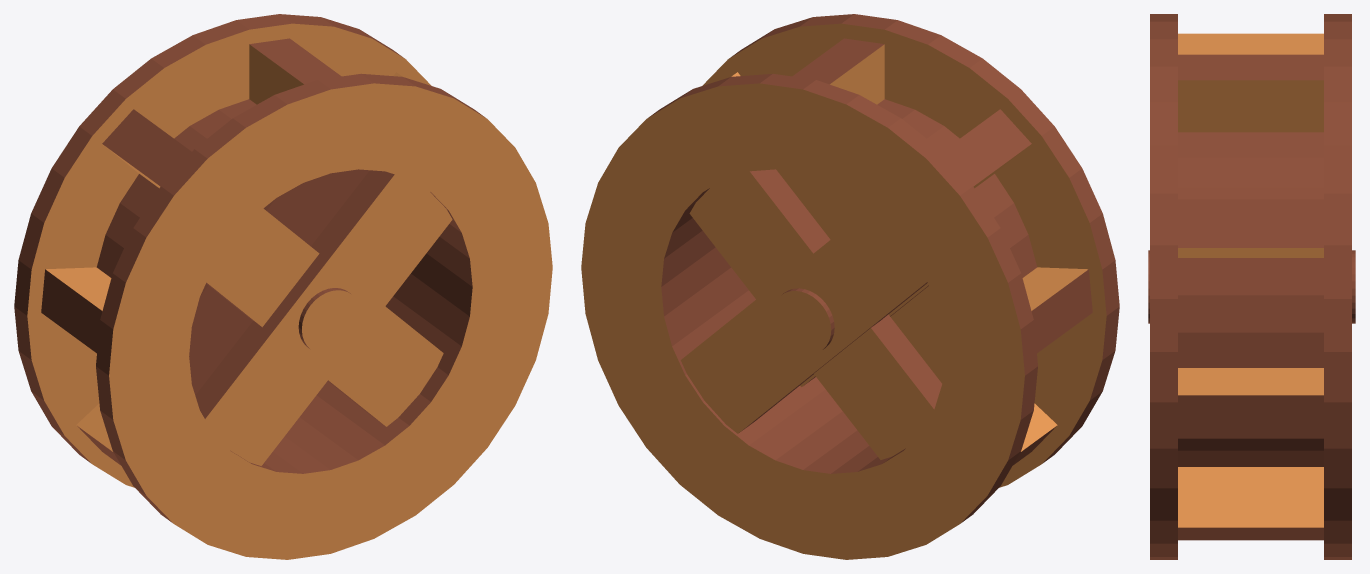
The model's file is DC_Water_Wheel.fbx.
3 renders of one model, left to right at view 1: azimuth 30°, elevation 25°; view 2: azimuth 150°, elevation 25°; view 3: azimuth 270°, elevation 25°, orthographic. The views are drawn at different scales.
Visible parts, largest first — view 1: Cylinder; view 2: Cylinder; view 3: Cylinder.
Boxes of the visible parts, x1=… form: Cylinder: x1=14, y1=14, x2=552, y2=559; Cylinder: x1=581, y1=14, x2=1119, y2=559; Cylinder: x1=1148, y1=14, x2=1355, y2=559.
Size of the model in its own units: 200 by 200 by 75.9.
